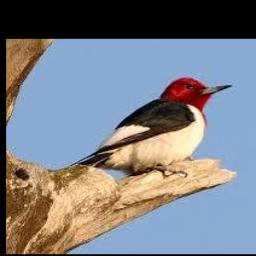Woodpecker: (77, 77, 232, 172)
